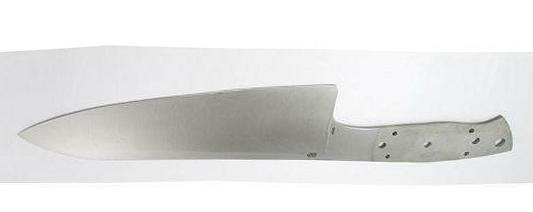knife: (19, 82, 515, 161)
